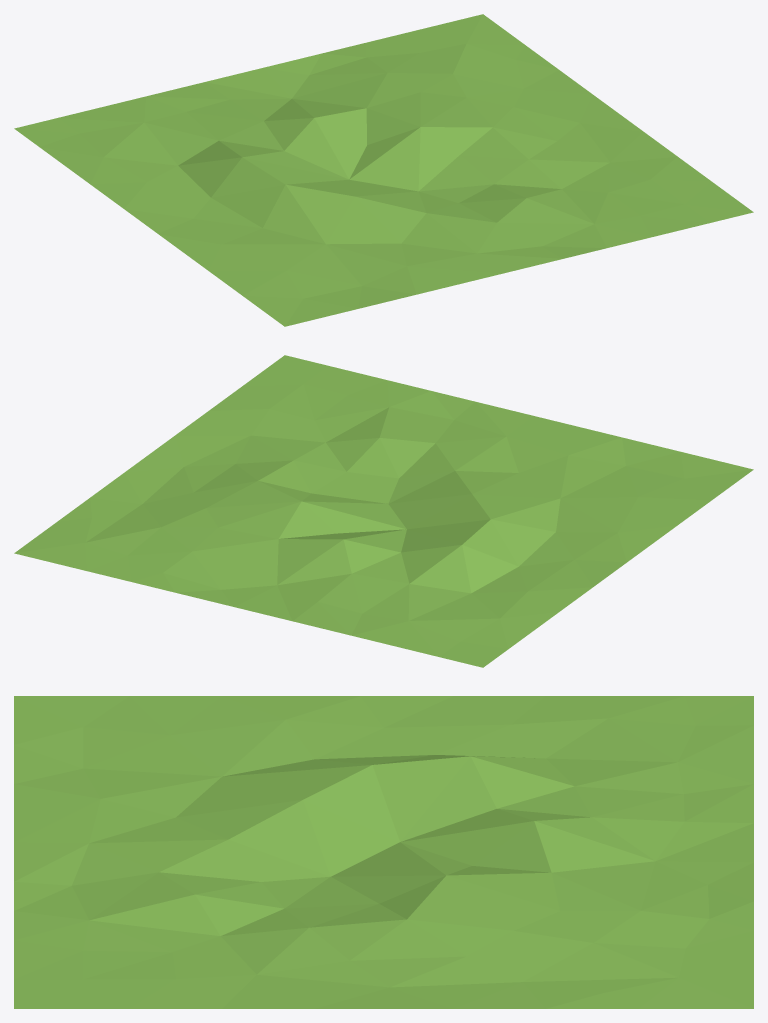
The model's file is MT_Terrain_S_a_13_LOD.fbx.
The picture shows the model from 3 angles, top to bottom: view 1: azimuth 30°, elevation 25°; view 2: azimuth 150°, elevation 25°; view 3: azimuth 270°, elevation 25°; orthographic projection. The views are drawn at different scales.
Parts seen in each view (by area): view 1: MT_Terrain_S_a_13_LOD0; view 2: MT_Terrain_S_a_13_LOD0; view 3: MT_Terrain_S_a_13_LOD0.
Part boxes in pixels (x1=…): MT_Terrain_S_a_13_LOD0: x1=14, y1=14, x2=753, y2=326; MT_Terrain_S_a_13_LOD0: x1=14, y1=355, x2=753, y2=667; MT_Terrain_S_a_13_LOD0: x1=14, y1=696, x2=753, y2=1008.
Size of what is drawn, in the model's own units: 2500 by 138 by 2500.
